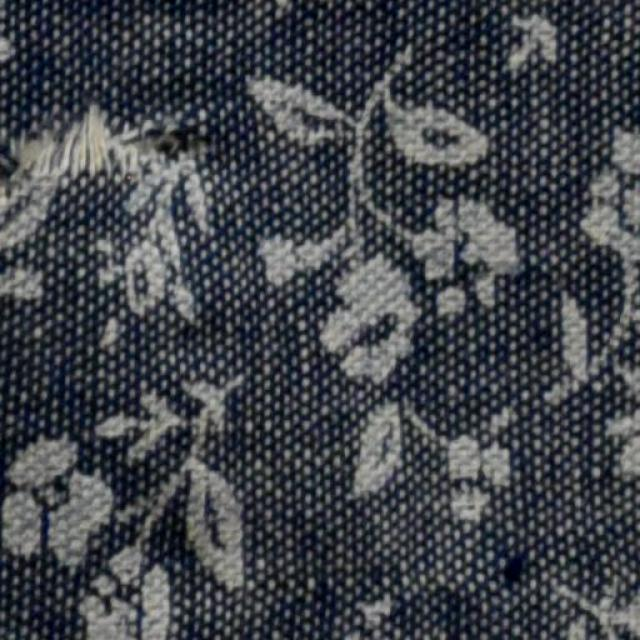Snag: (0, 97, 198, 202), (495, 542, 539, 585)
